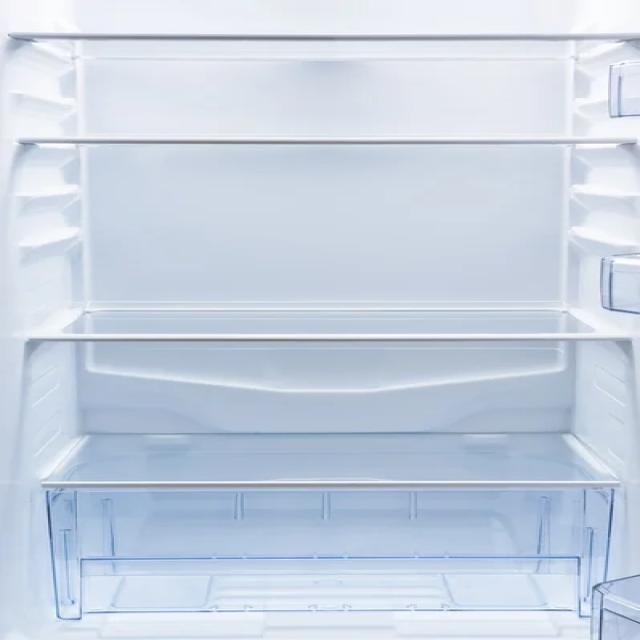fridge-space: (48, 497, 592, 606), (42, 414, 604, 480), (28, 280, 592, 336), (21, 90, 596, 141)
